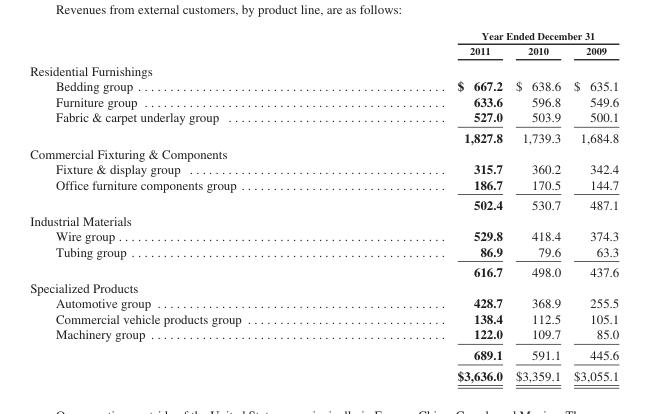table: (29, 29, 618, 382)
table column: (29, 29, 348, 382), (348, 29, 508, 382), (508, 29, 566, 382), (566, 29, 618, 382)
table column header: (29, 29, 618, 59)
table projected row header: (29, 59, 618, 78), (29, 279, 618, 295), (29, 145, 618, 160), (29, 212, 618, 227)
table row: (29, 344, 618, 364), (29, 59, 618, 78), (29, 109, 618, 127), (29, 127, 618, 145), (29, 176, 618, 194), (29, 194, 618, 212), (29, 243, 618, 261), (29, 261, 618, 279), (29, 326, 618, 344), (29, 364, 618, 382), (29, 42, 618, 59), (29, 93, 618, 109), (29, 160, 618, 176), (29, 227, 618, 243), (29, 279, 618, 295), (29, 310, 618, 326), (29, 78, 618, 93), (29, 145, 618, 160), (29, 212, 618, 227), (29, 295, 618, 310), (29, 29, 618, 42)
table spanning cell: (348, 29, 618, 42)
